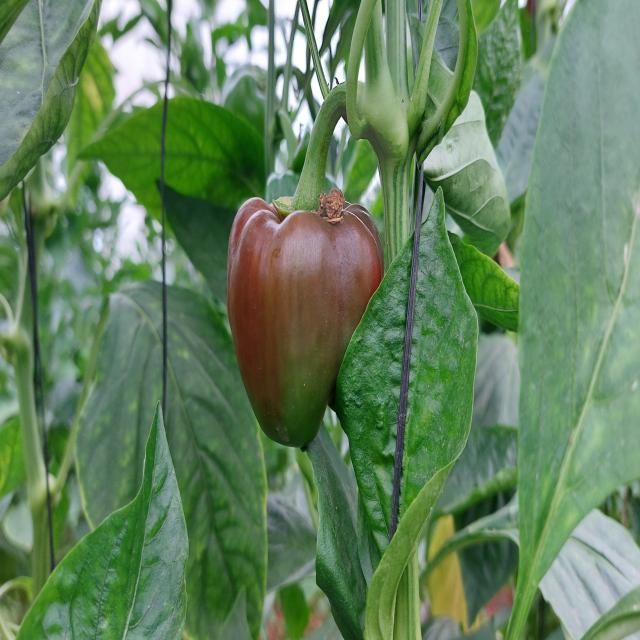BrownishRed--Can-be-Harvested: (235, 182, 393, 457)
